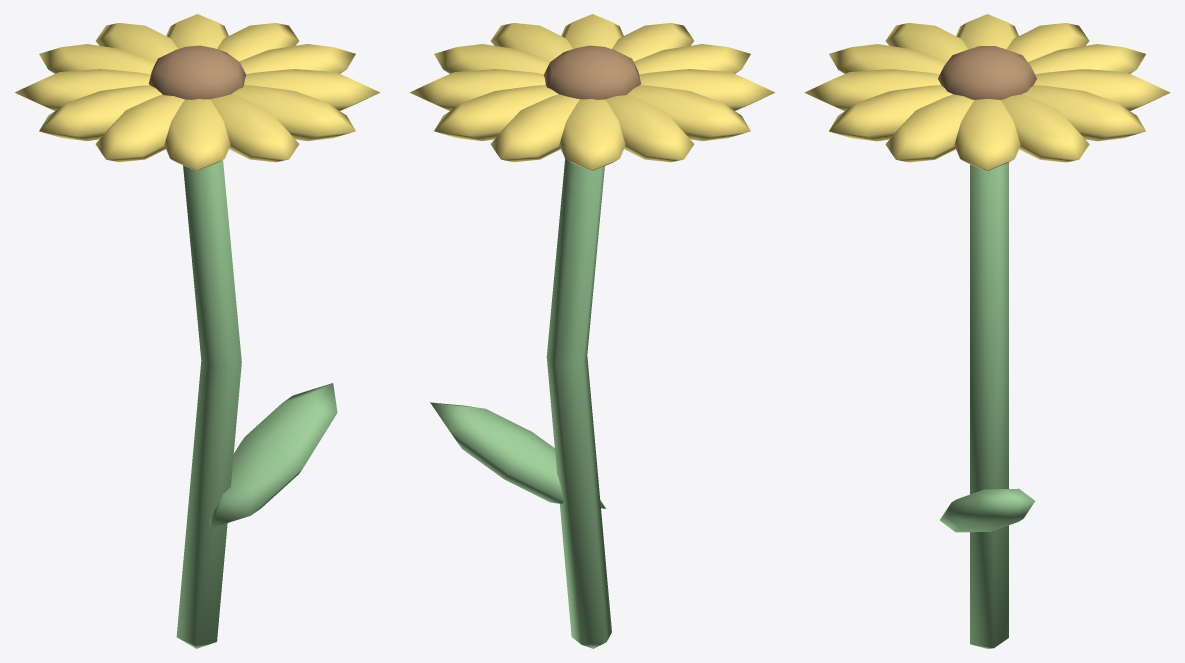
The model's file is flower_girassol.glb.
3 views of the same model, side by side, from view 1: azimuth 30°, elevation 25°; view 2: azimuth 150°, elevation 25°; view 3: azimuth 270°, elevation 25° (orthographic).
Parts seen in each view (by area): view 1: flower_girassol; view 2: flower_girassol; view 3: flower_girassol.
Part boxes in pixels (bbox=[...]): flower_girassol: bbox=[15, 14, 379, 648]; flower_girassol: bbox=[410, 14, 774, 648]; flower_girassol: bbox=[804, 14, 1170, 648].
Bounding box in the file's own units: 0.256 × 0.46 × 0.256.
